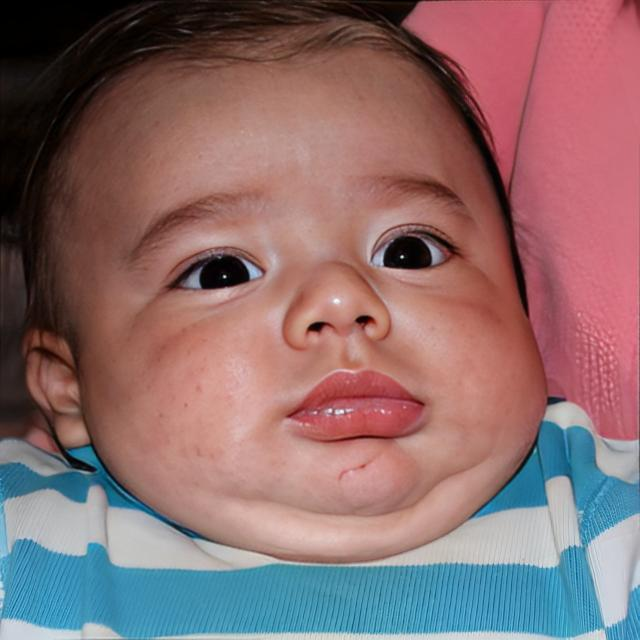Fear: (53, 16, 549, 562)
